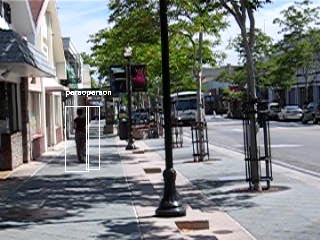person: (72, 109, 91, 166), (71, 109, 90, 166), (73, 109, 92, 166), (72, 108, 91, 165), (72, 110, 91, 167)
target_negative: (136, 5, 209, 180), (248, 13, 290, 105), (148, 146, 213, 176), (271, 120, 312, 162), (260, 16, 314, 45), (124, 219, 196, 240)
